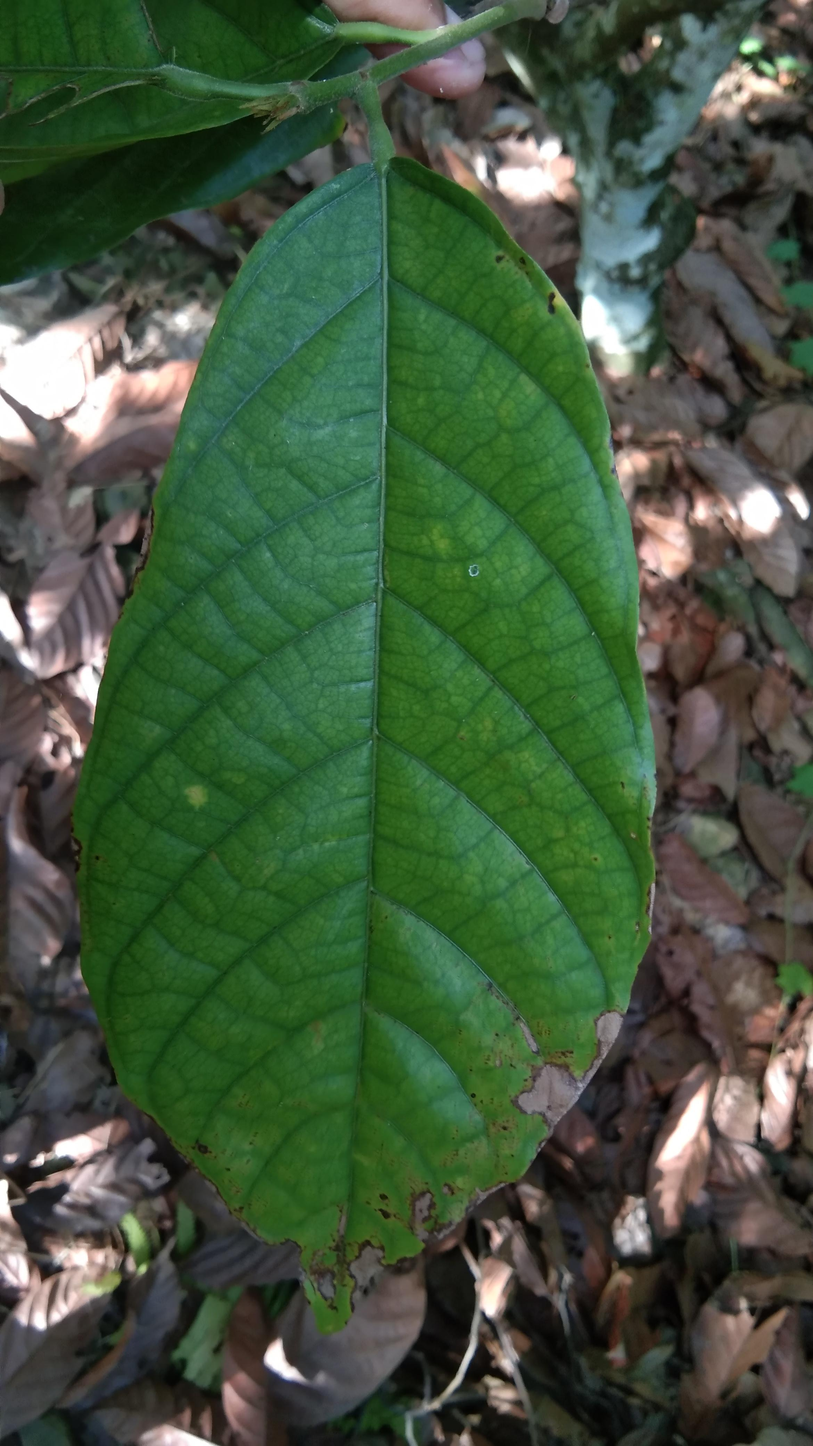deficiencia_potasio: (84, 155, 655, 1329)
